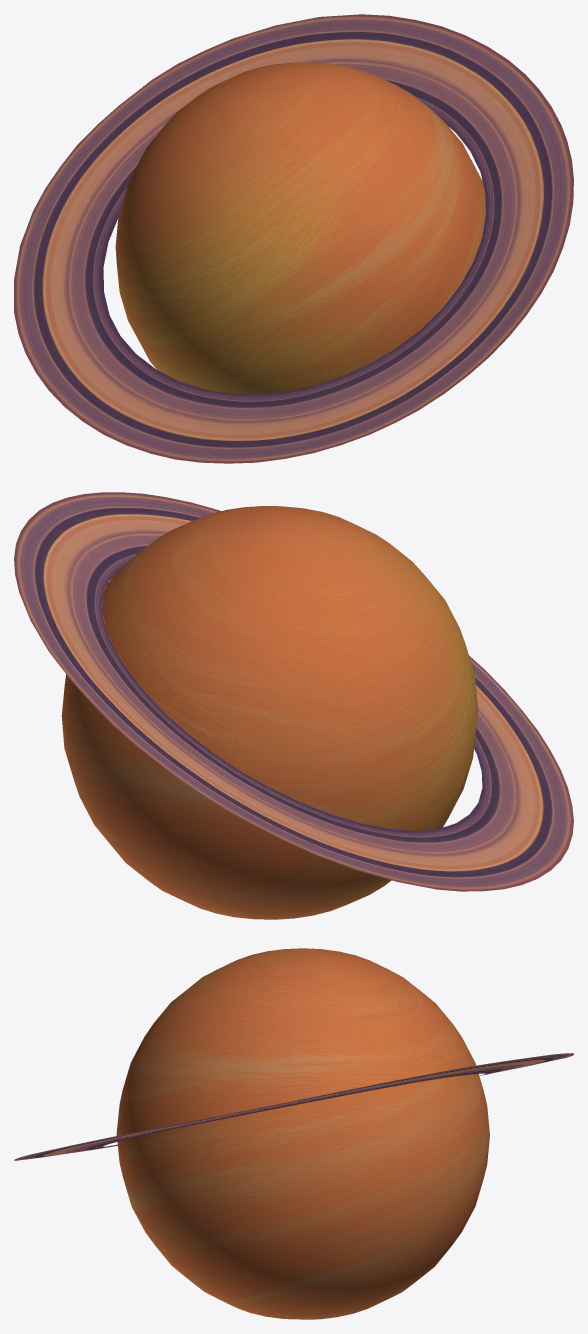
Rendered from saturn.glb.
3 renders of one model, top to bottom at view 1: azimuth 30°, elevation 25°; view 2: azimuth 150°, elevation 25°; view 3: azimuth 270°, elevation 25°, orthographic. The views are drawn at different scales.
Visible parts, largest first — view 1: tripo_node_60a28f43-c24e-4b7c-872d-a95b6aa7771f; view 2: tripo_node_60a28f43-c24e-4b7c-872d-a95b6aa7771f; view 3: tripo_node_60a28f43-c24e-4b7c-872d-a95b6aa7771f.
Boxes of the visible parts, left/top/right/bottom form: tripo_node_60a28f43-c24e-4b7c-872d-a95b6aa7771f: left=14, top=14, right=573, bottom=463; tripo_node_60a28f43-c24e-4b7c-872d-a95b6aa7771f: left=14, top=492, right=573, bottom=919; tripo_node_60a28f43-c24e-4b7c-872d-a95b6aa7771f: left=14, top=948, right=573, bottom=1319.
Bounding box in the file's own units: 0.9155 × 0.6655 × 0.9995.
1 material, 1 textured.
